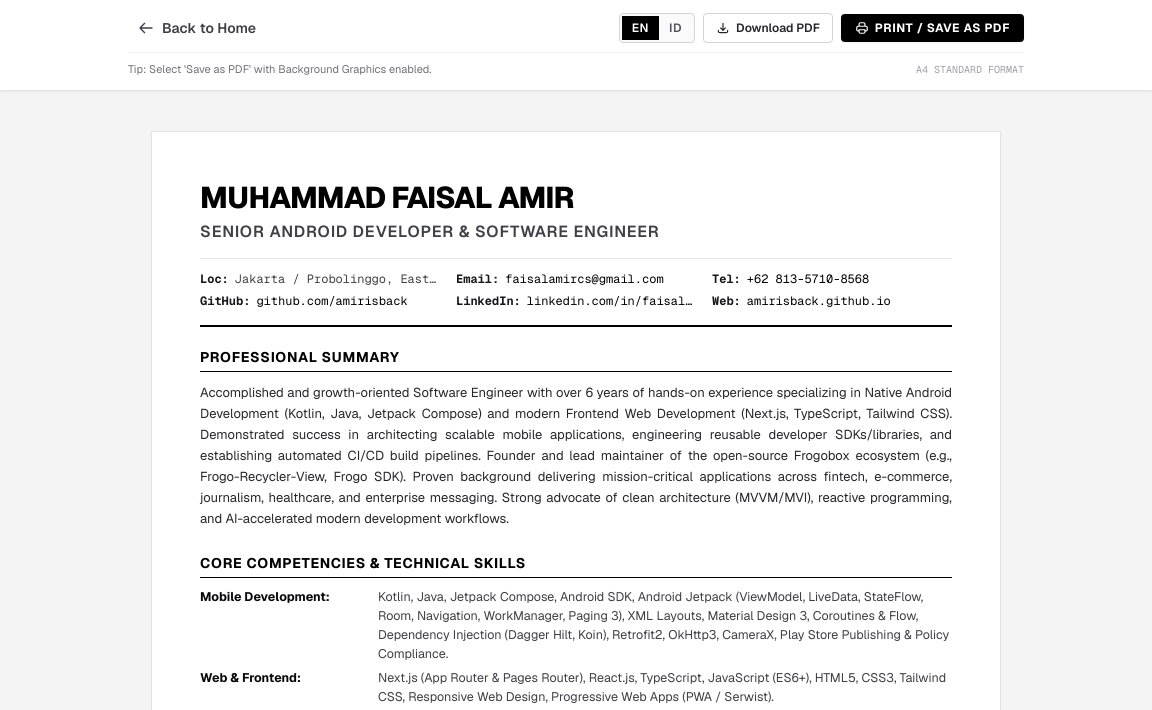
CvView Component › switches language to Indonesian and back to English interactively
Note: Switch to Indonesian
Step 1. Click the button "ID" → click(676, 28), box [659,16,692,40]
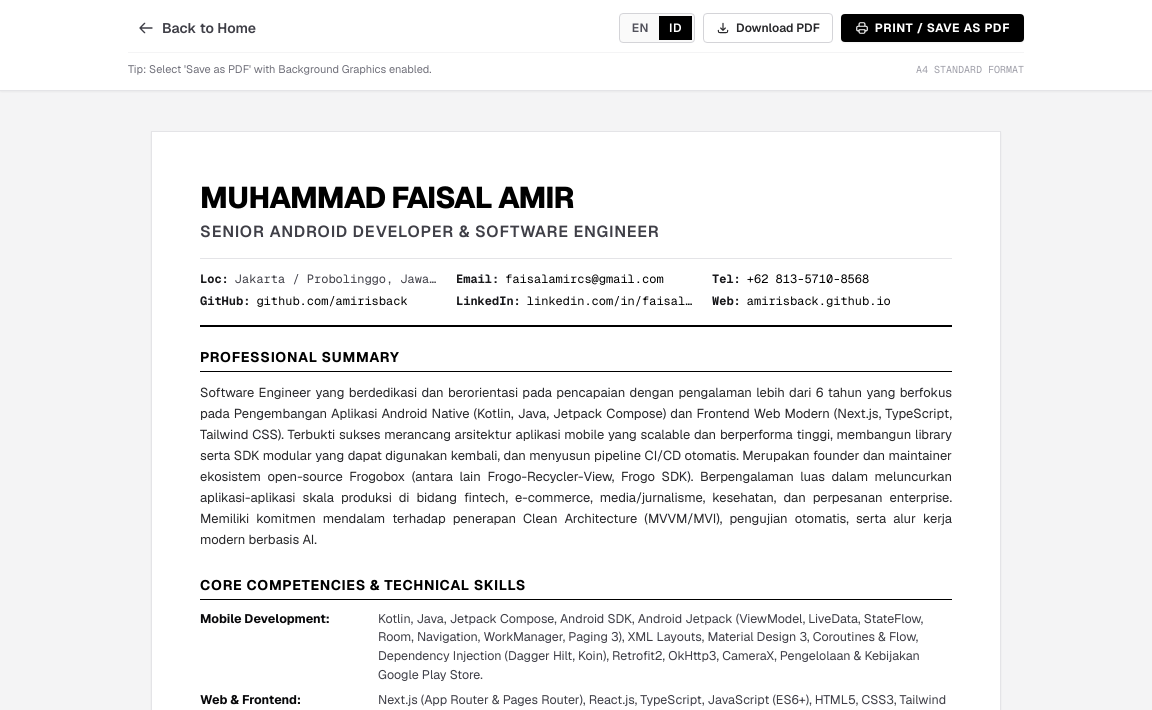
Result: the text "Software Engineer yang berdedikasi dan berorientasi pada pencapaian" is shown at [200,384,952,548]
Note: Switch back to English
Step 2. Click the button "EN" → click(640, 28), box [622,16,659,40]
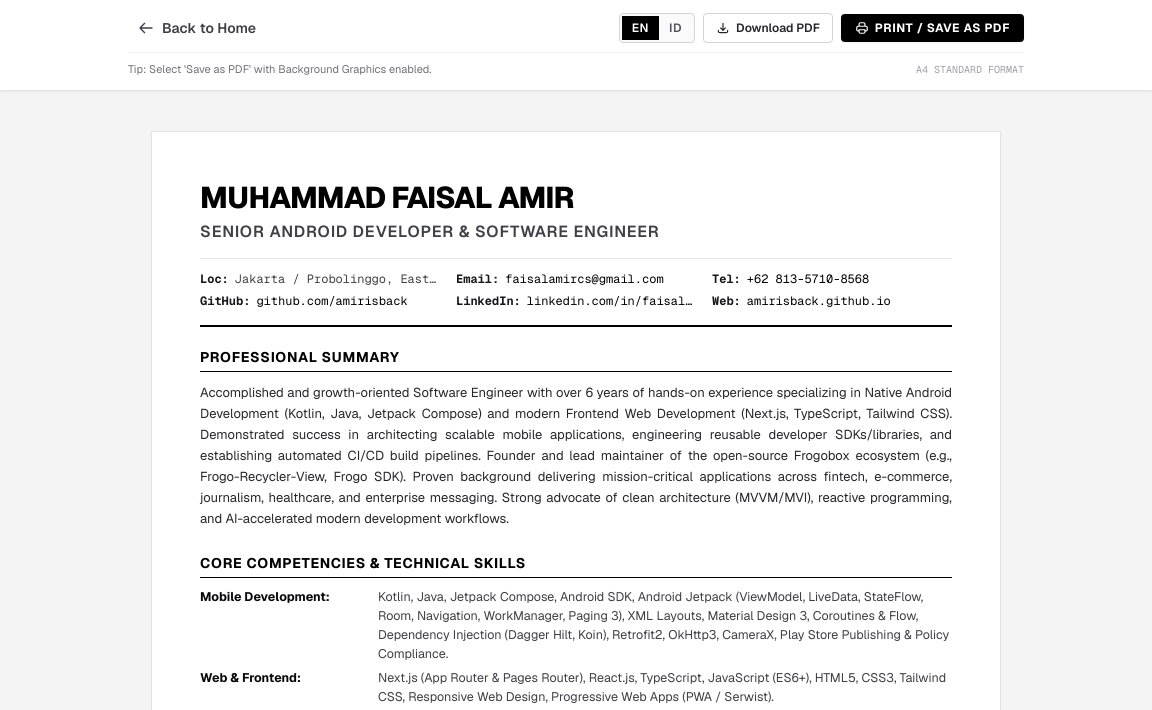
Result: the text "Accomplished and growth-oriented Software Engineer" is shown at [200,384,952,527]
